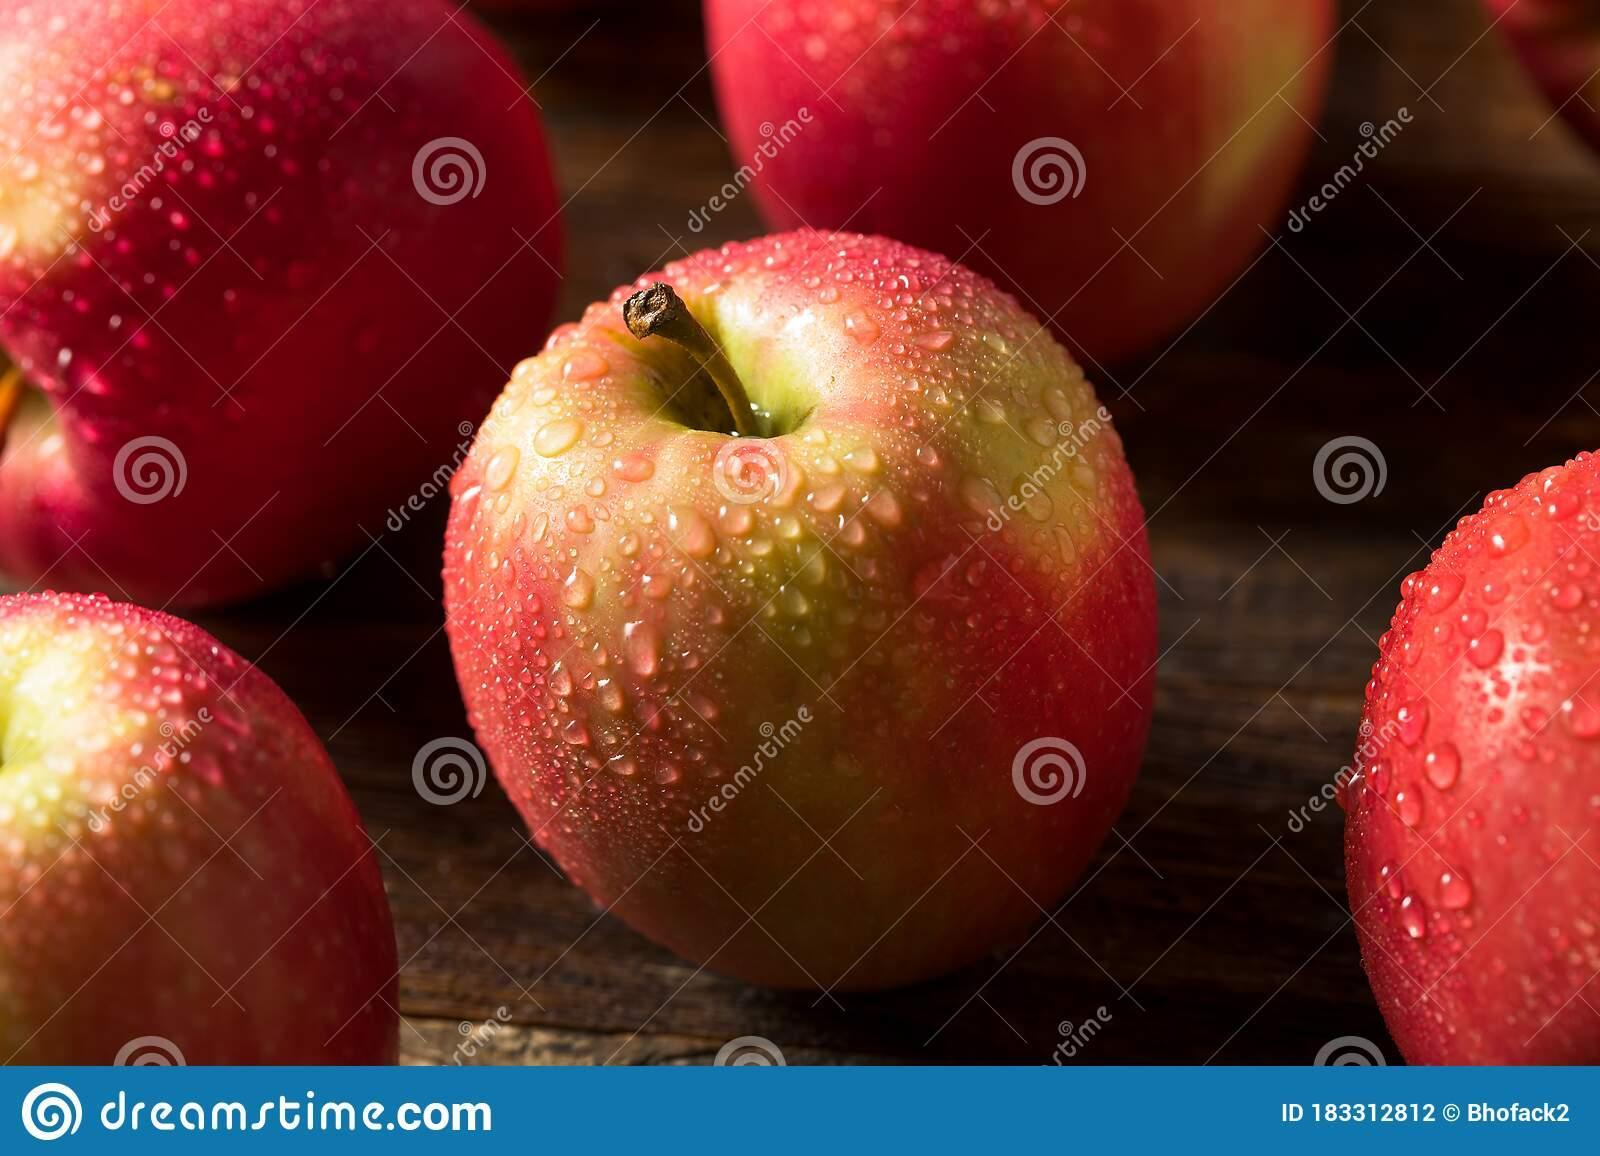apple: (441, 222, 1165, 988), (2, 1, 566, 610), (703, 7, 1333, 364), (1, 596, 400, 1065), (1342, 459, 1600, 1065)
